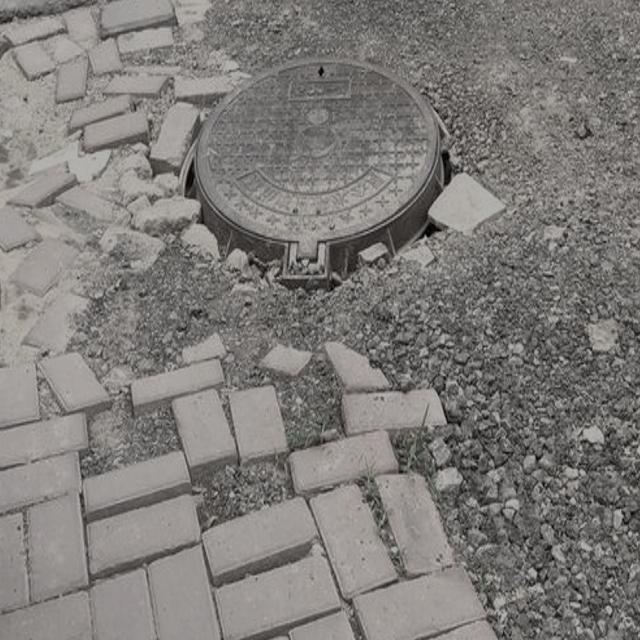circle: (91, 0, 528, 368)
